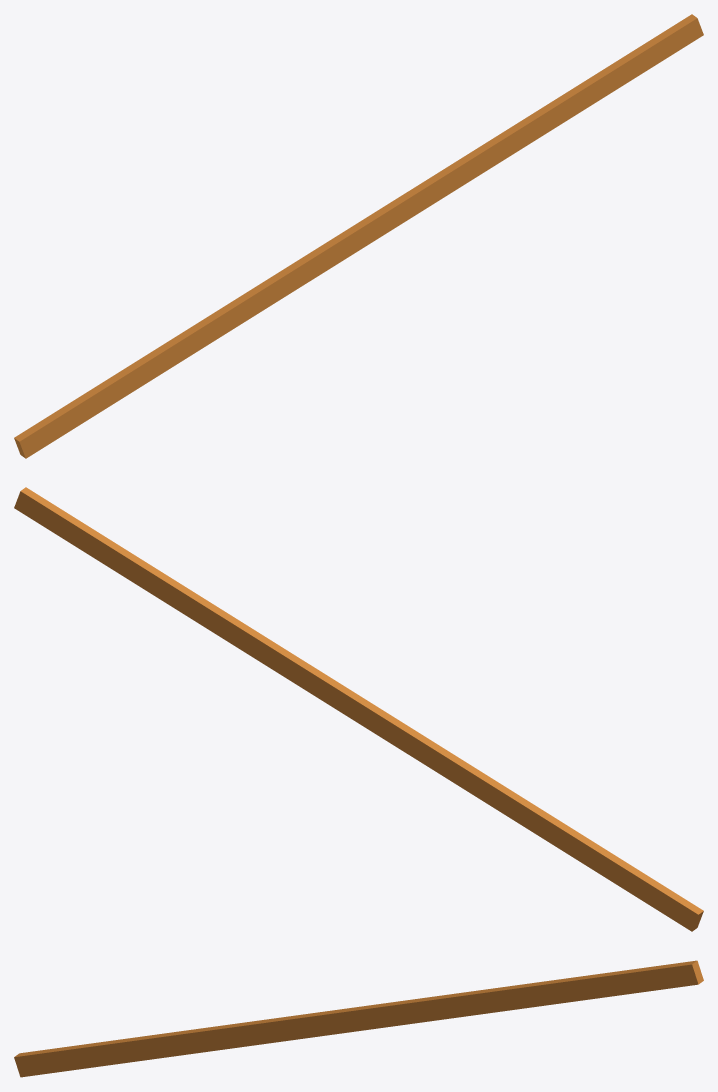
The picture shows the model from 3 angles, top to bottom: view 1: azimuth 30°, elevation 25°; view 2: azimuth 150°, elevation 25°; view 3: azimuth 330°, elevation 25°; orthographic projection.
Parts seen in each view (by area): view 1: L4-6-S10-3EA-M01; view 2: L4-6-S10-3EA-M01; view 3: L4-6-S10-3EA-M01.
Part boxes in pixels (left/top/right/bottom): L4-6-S10-3EA-M01: left=14, top=14, right=703, bottom=458; L4-6-S10-3EA-M01: left=14, top=487, right=703, bottom=931; L4-6-S10-3EA-M01: left=14, top=960, right=703, bottom=1077.
Bounding box in the file's own units: 3.26 × 1.26 × 0.045.
